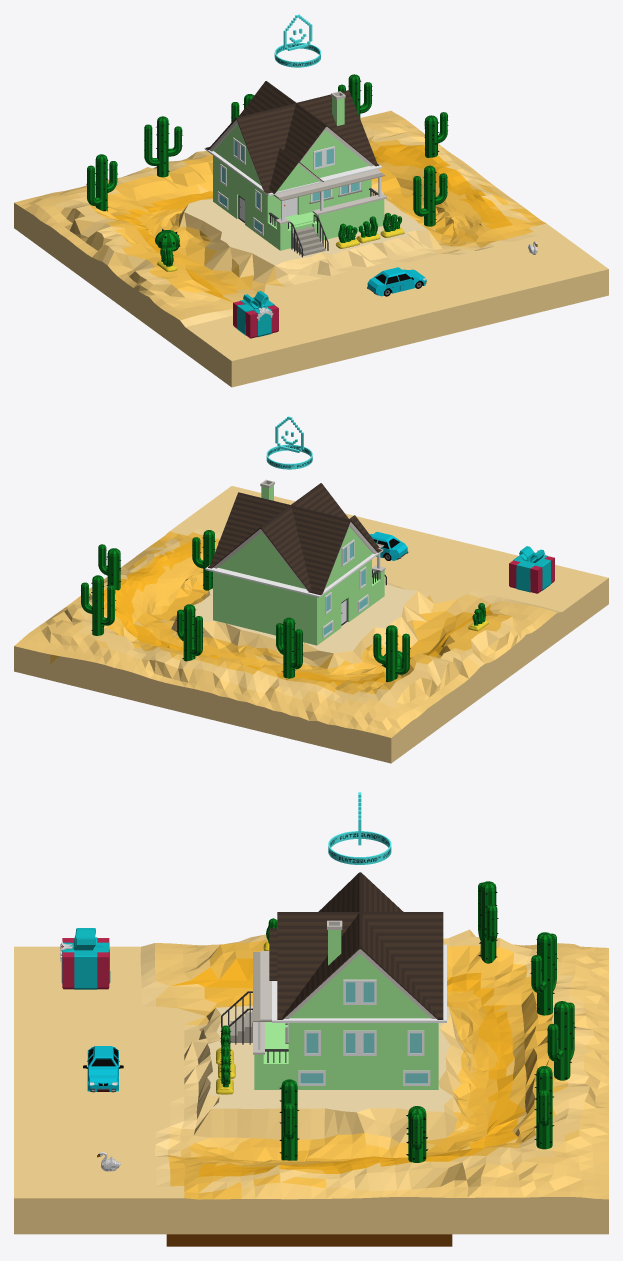
The picture shows the model from 3 angles, top to bottom: view 1: azimuth 30°, elevation 25°; view 2: azimuth 150°, elevation 25°; view 3: azimuth 270°, elevation 25°; orthographic projection. The views are drawn at different scales.
Visible parts, largest first — view 1: Cube.001, Cube.274, OBJRANDOM_GIANT_PRESENT, Cylinder.044, Cylinder.037, Cylinder.045, VEHICLES_CAR, TYPE_PREMIUM, Cylinder.038, Cylinder.042; view 2: Cube.001, Cube.274, OBJRANDOM_GIANT_PRESENT, Cylinder.042, Cylinder.045, Cylinder.044, Cylinder.043, TYPE_PREMIUM, Cylinder.037, Cylinder.038, VEHICLES_CAR; view 3: Cube.001, Cube.274, UNDERGROUND_ART_PIECE_VAN_GOGH, OBJRANDOM_GIANT_PRESENT, Cylinder.043, Cylinder.044, Cylinder.045, VEHICLES_CAR, Cylinder.042, Cylinder.037, TYPE_PREMIUM, Cylinder.038.
Part boxes in pixels (<box>): Cube.001: <box>14,110,608,387</box>; Cube.274: <box>204,81,386,257</box>; OBJRANDOM_GIANT_PRESENT: <box>233,291,278,338</box>; Cylinder.044: <box>144,116,182,177</box>; Cylinder.037: <box>413,165,447,226</box>; Cylinder.045: <box>86,154,117,211</box>; VEHICLES_CAR: <box>367,267,426,296</box>; TYPE_PREMIUM: <box>274,14,320,67</box>; Cylinder.038: <box>424,112,448,157</box>; Cylinder.042: <box>338,74,372,118</box>; Cube.001: <box>14,486,608,763</box>; Cube.274: <box>205,479,386,645</box>; OBJRANDOM_GIANT_PRESENT: <box>509,546,554,593</box>; Cylinder.042: <box>81,575,115,635</box>; Cylinder.045: <box>373,625,410,682</box>; Cylinder.044: <box>276,617,302,678</box>; Cylinder.043: <box>176,604,203,661</box>; TYPE_PREMIUM: <box>266,416,312,469</box>; Cylinder.037: <box>192,530,219,590</box>; Cylinder.038: <box>98,544,120,590</box>; VEHICLES_CAR: <box>370,532,408,560</box>; Cube.001: <box>14,929,608,1234</box>; Cube.274: <box>221,872,446,1089</box>; UNDERGROUND_ART_PIECE_VAN_GOGH: <box>166,1234,452,1246</box>; OBJRANDOM_GIANT_PRESENT: <box>60,928,110,989</box>; Cylinder.043: <box>546,1001,575,1080</box>; Cylinder.044: <box>530,932,557,1015</box>; Cylinder.045: <box>478,881,498,963</box>; VEHICLES_CAR: <box>83,1046,123,1092</box>; Cylinder.042: <box>534,1066,554,1149</box>; Cylinder.037: <box>279,1079,299,1160</box>; TYPE_PREMIUM: <box>328,792,391,864</box>; Cylinder.038: <box>406,1106,428,1162</box>.
Size of the model in its own units: 4002 by 2563 by 4001.
Materials: 36 (4 with a texture image).
